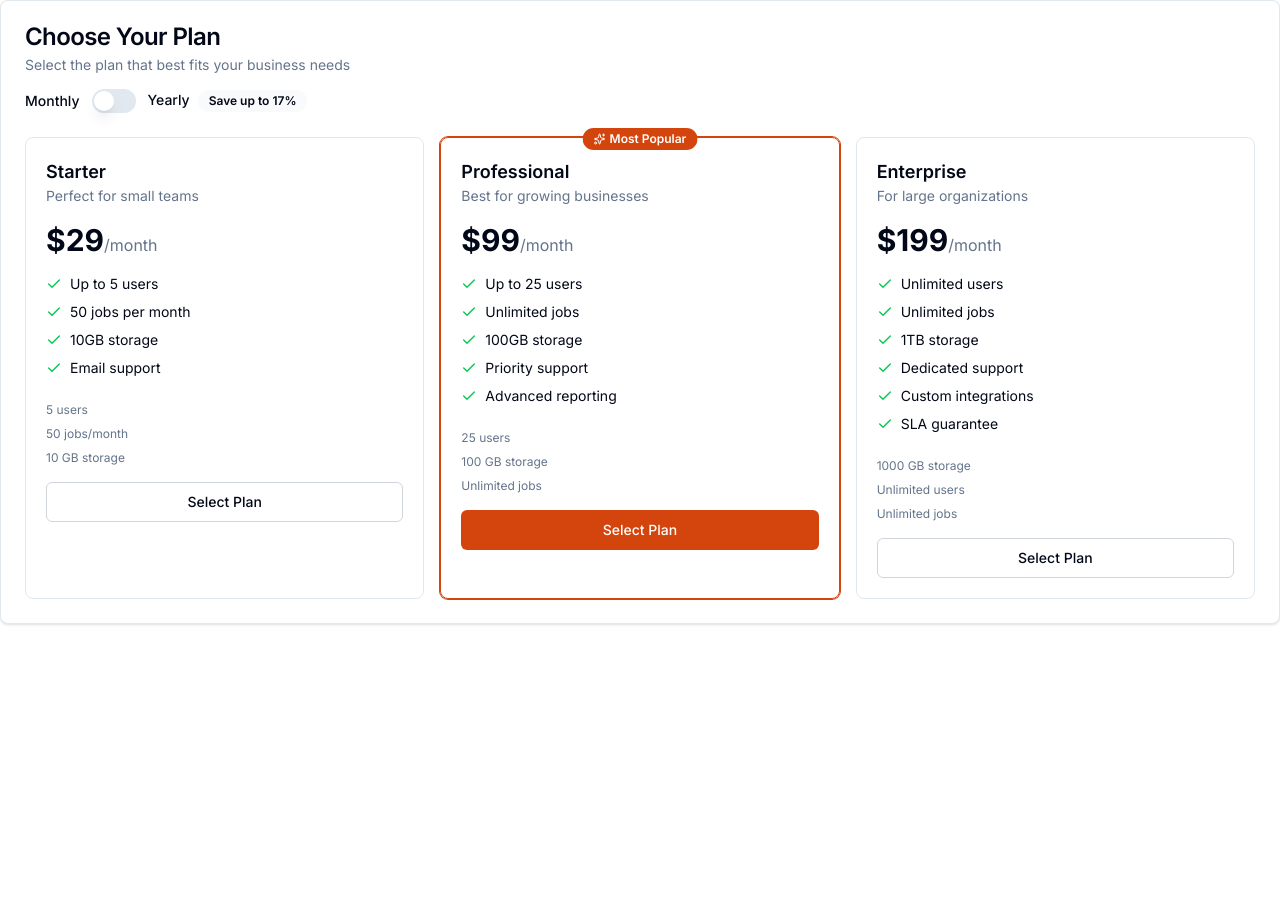
Test case: PlanSelector › should show loading state when creating checkout
This screenshot has width=1280, height=900.
Click the button "Select Plan" below "jobs/month".
click(225, 502)  # box [46, 482, 403, 522]
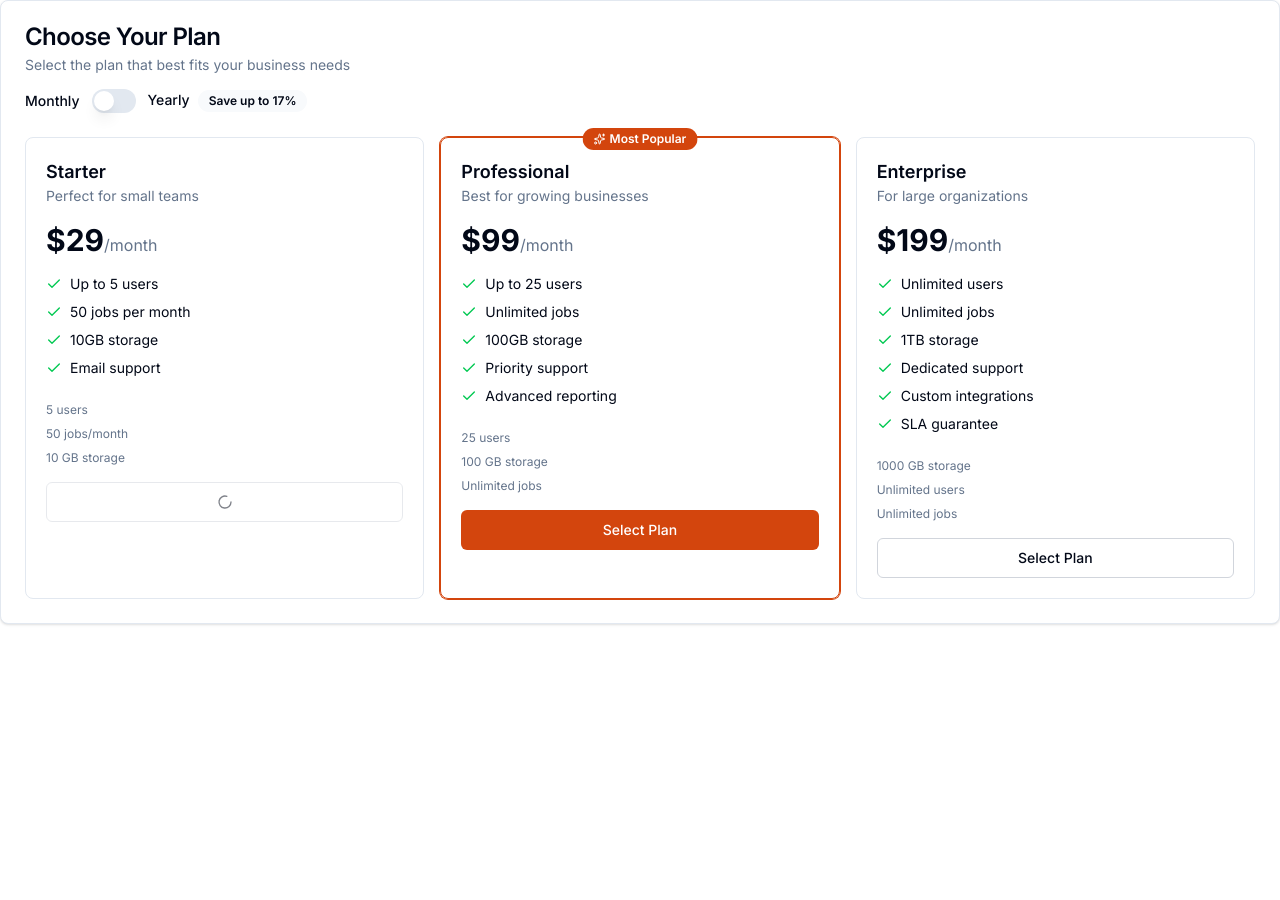
expect the button named "select plan" is disabled: met, box [46, 482, 403, 522]
expect the icon with class "animate-spin" is shown: met, box [217, 494, 233, 510]
